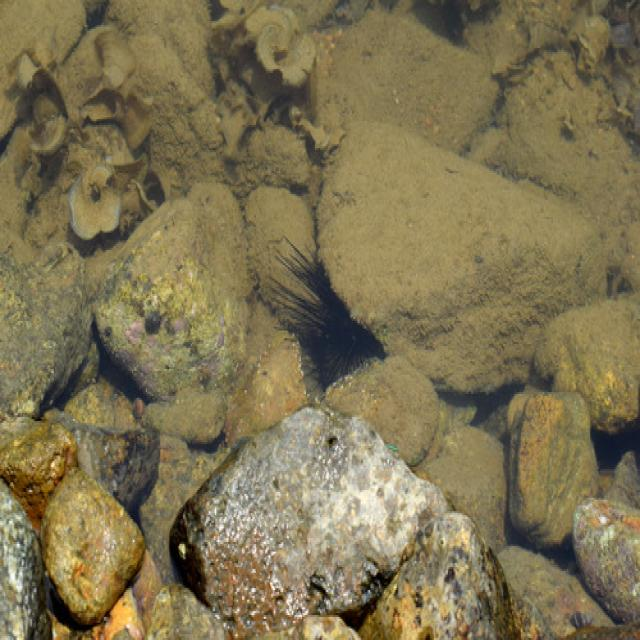Urchin: (268, 225, 392, 390)
